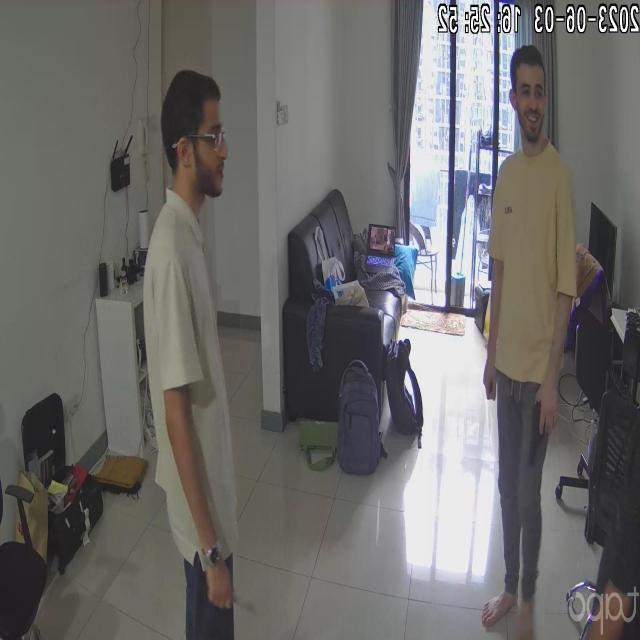Gun: (522, 388, 571, 498)
